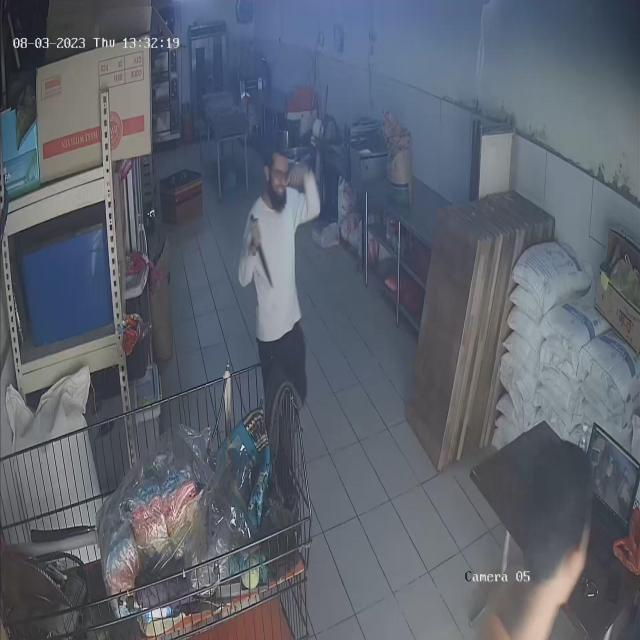Knife: (244, 213, 281, 289)
